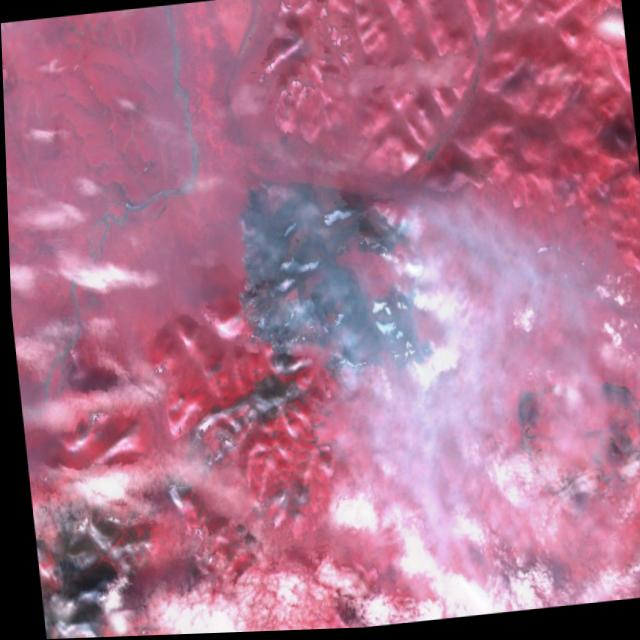fire: (218, 164, 439, 399)
